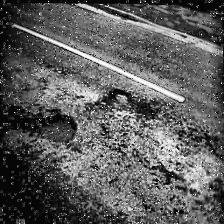pothole: (0, 101, 80, 147), (110, 86, 130, 104)
